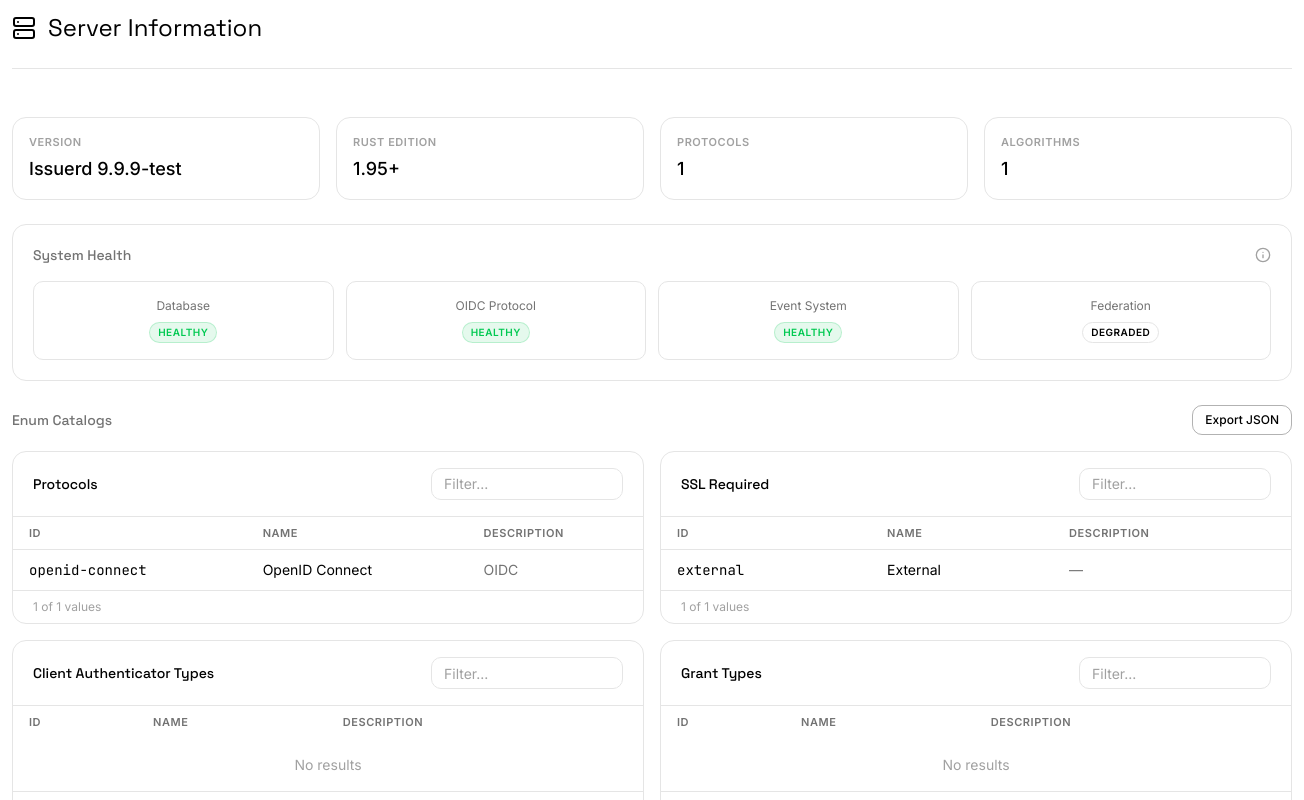
Test case: ServerInfoPage › filters enum table by name
Type "openid" into the 1st field with placeholder "Filter...". click: (527, 484)
box: top-left (431, 468), bottom-right (623, 500)
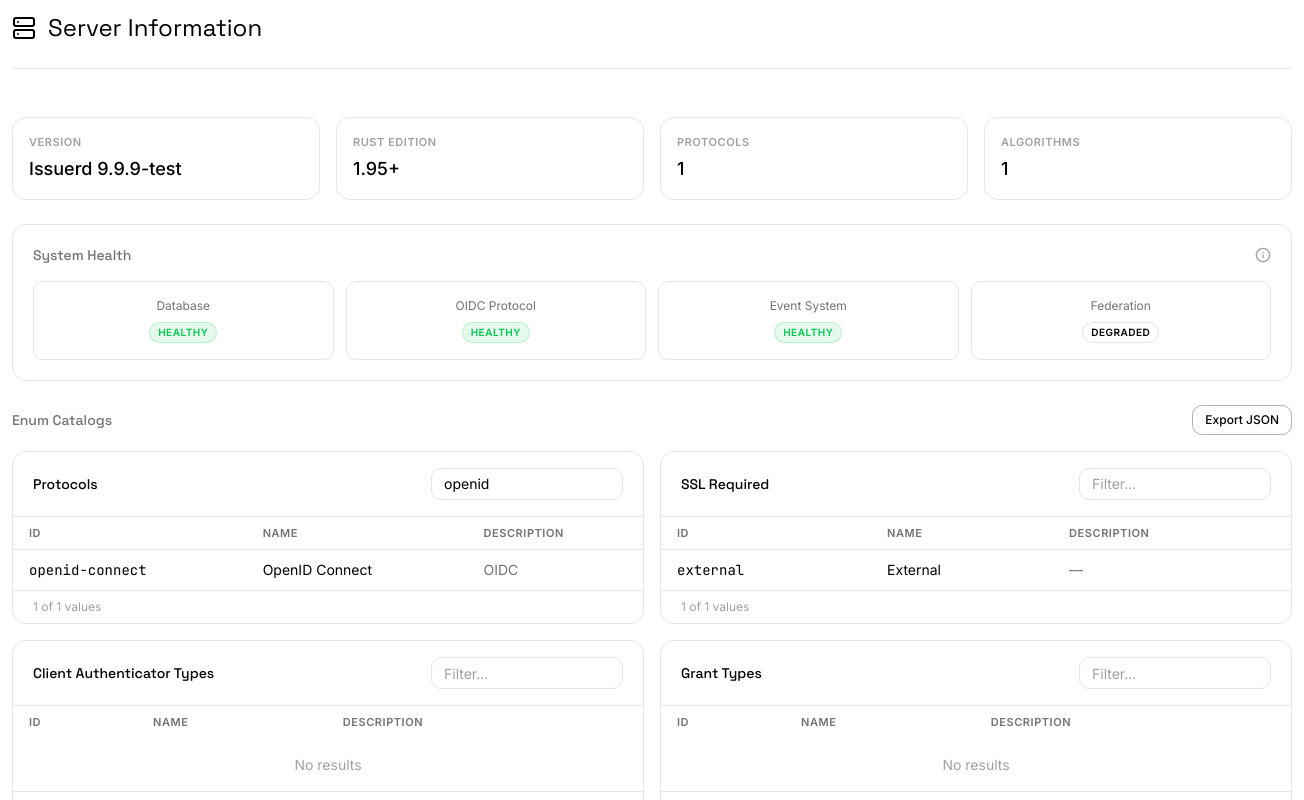
Expected: the text "openid-connect" is shown, top-left (13, 550), bottom-right (247, 590)
Replace the text in the field with placeholder "Filter..." with "nomatch". click: (527, 484)
box: top-left (431, 468), bottom-right (623, 500)
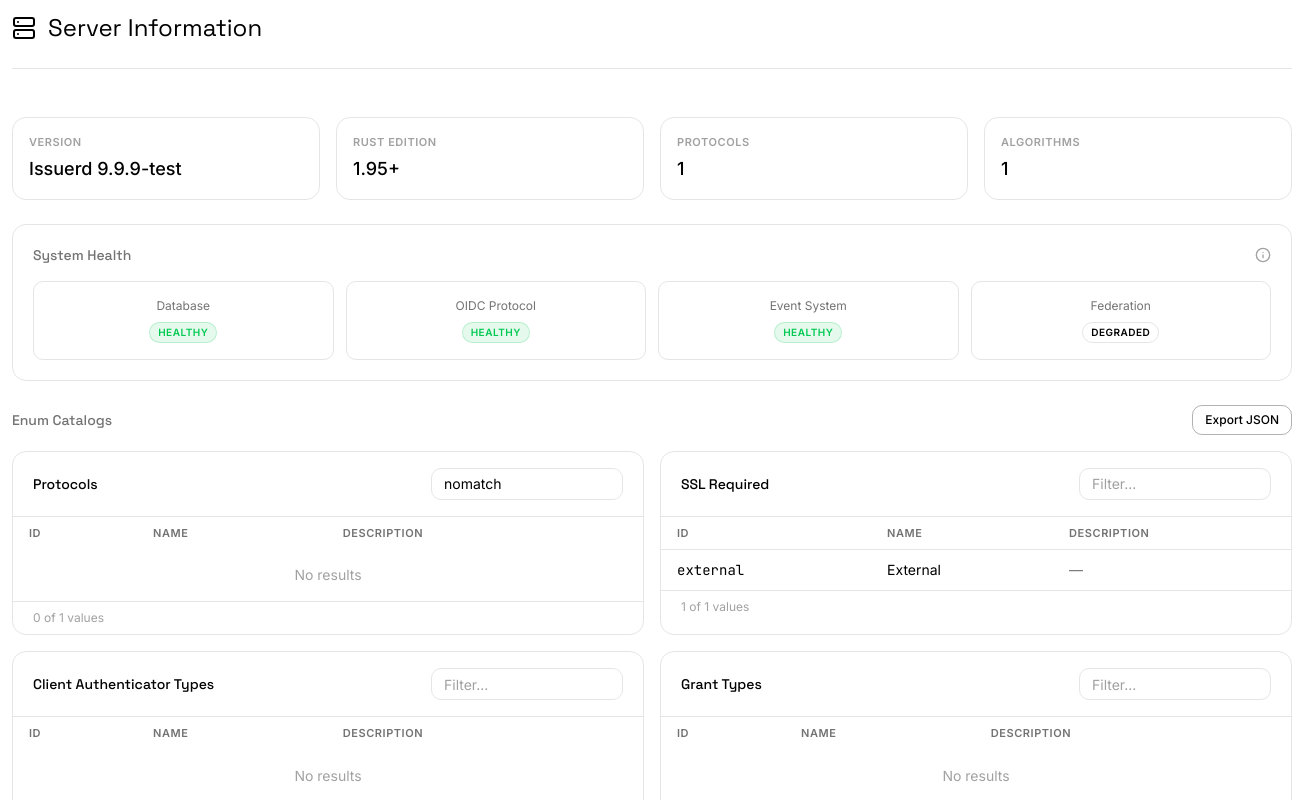
Result: the 1st text "No results" is shown at top-left (13, 549), bottom-right (643, 601)
